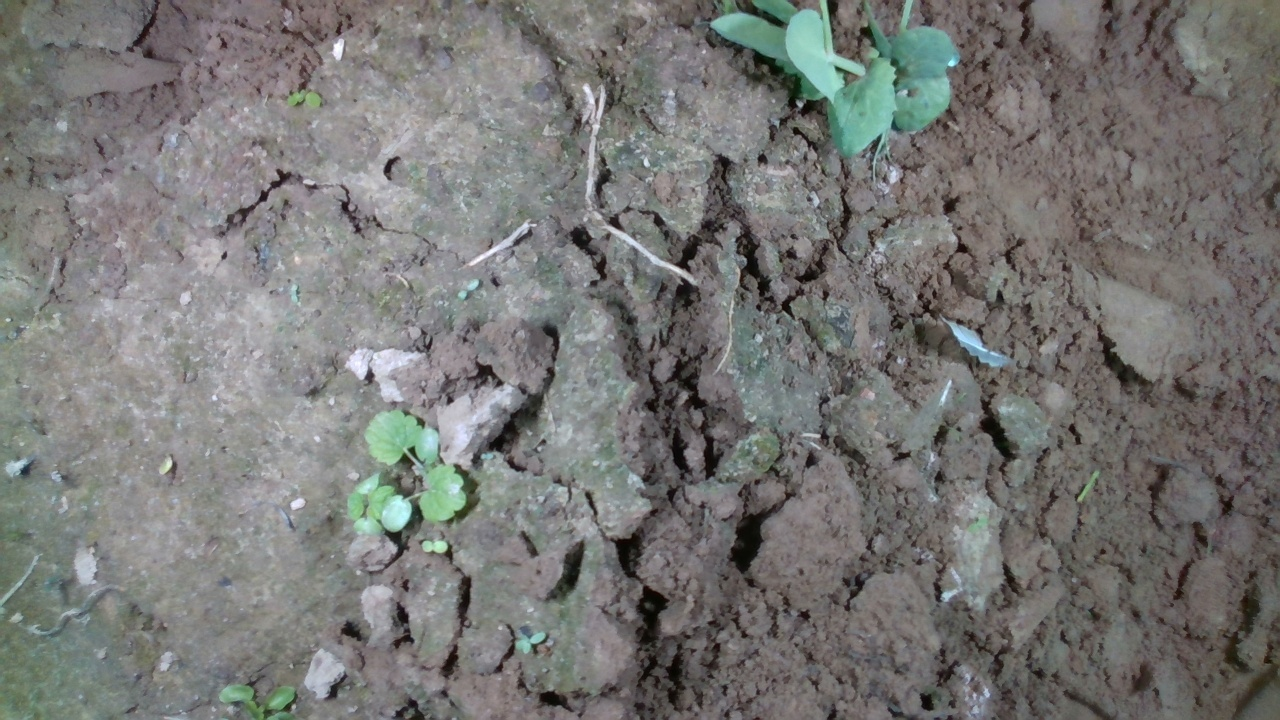weed: (282, 84, 327, 110), (414, 533, 451, 558), (449, 277, 482, 298)
